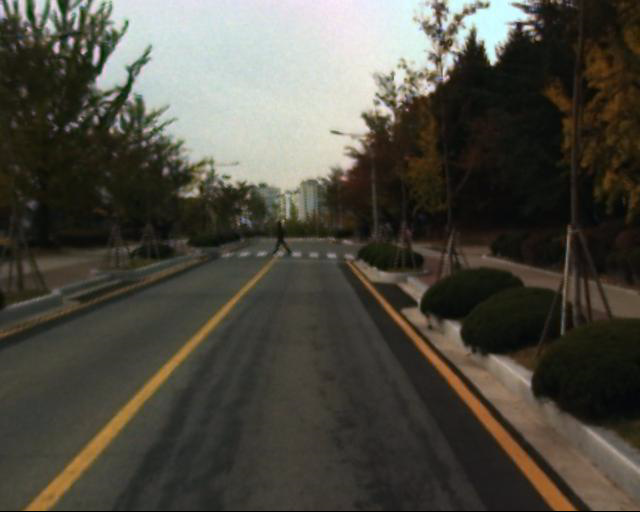person: (265, 219, 288, 260)
